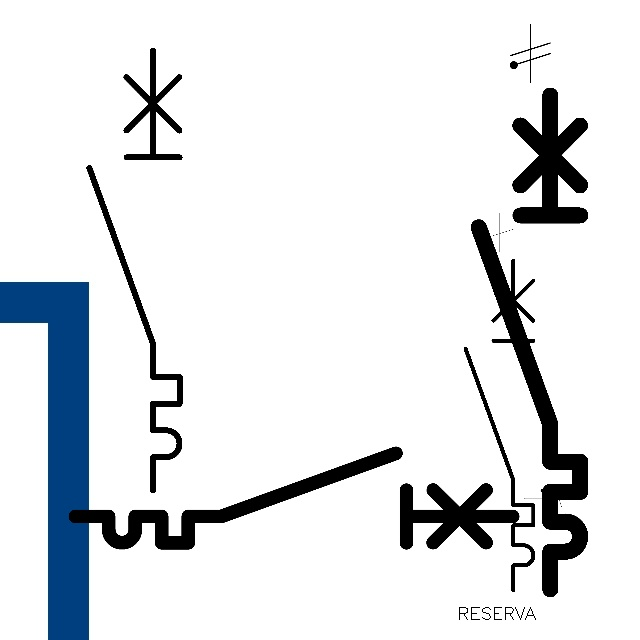interruptor_termomagnetico: (466, 82, 593, 601), (78, 39, 191, 502), (64, 442, 523, 554), (457, 252, 542, 598)
